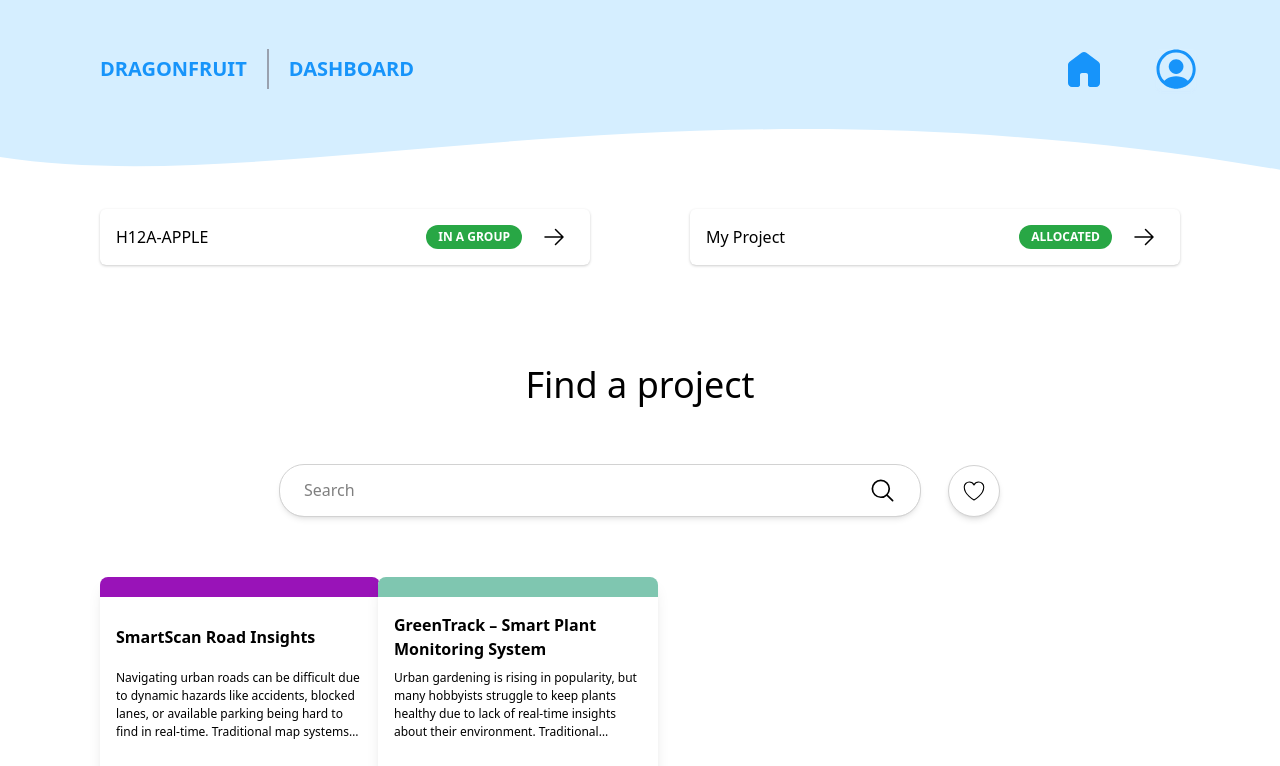
Test case: Student Dashboard Page (fixed) › navigates to preference when heart is clicked
The width and height of the screenshot is (1280, 766).
Click the button with id "wish-list". click: (974, 491)
box: 948,465 -> 1000,517
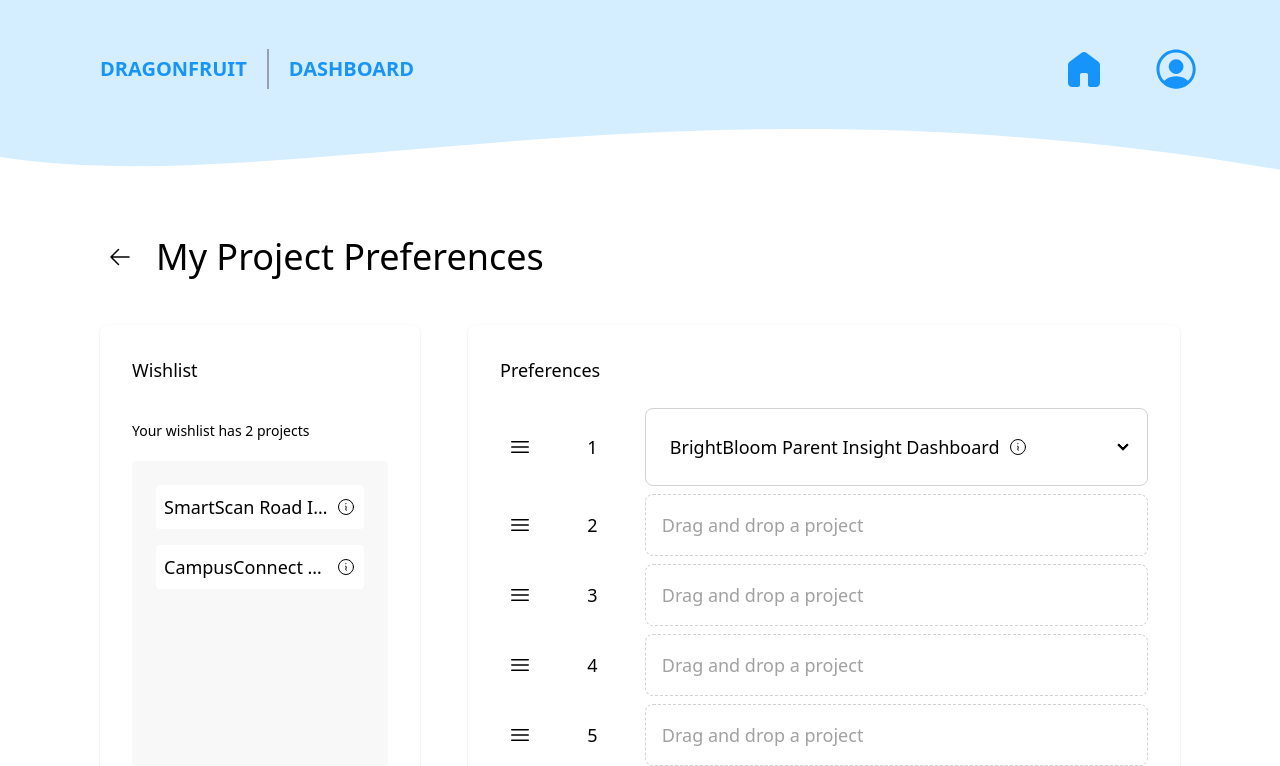
Check: the text "My Project Preferences" is shown, box 156,237 -> 544,277
Check: the text "BrightBloom Parent Insight Dashboard" is shown, box 670,433 -> 1000,461
Check: the text "CampusConnect – Student Community Web Portal" is shown, box 164,553 -> 328,581
